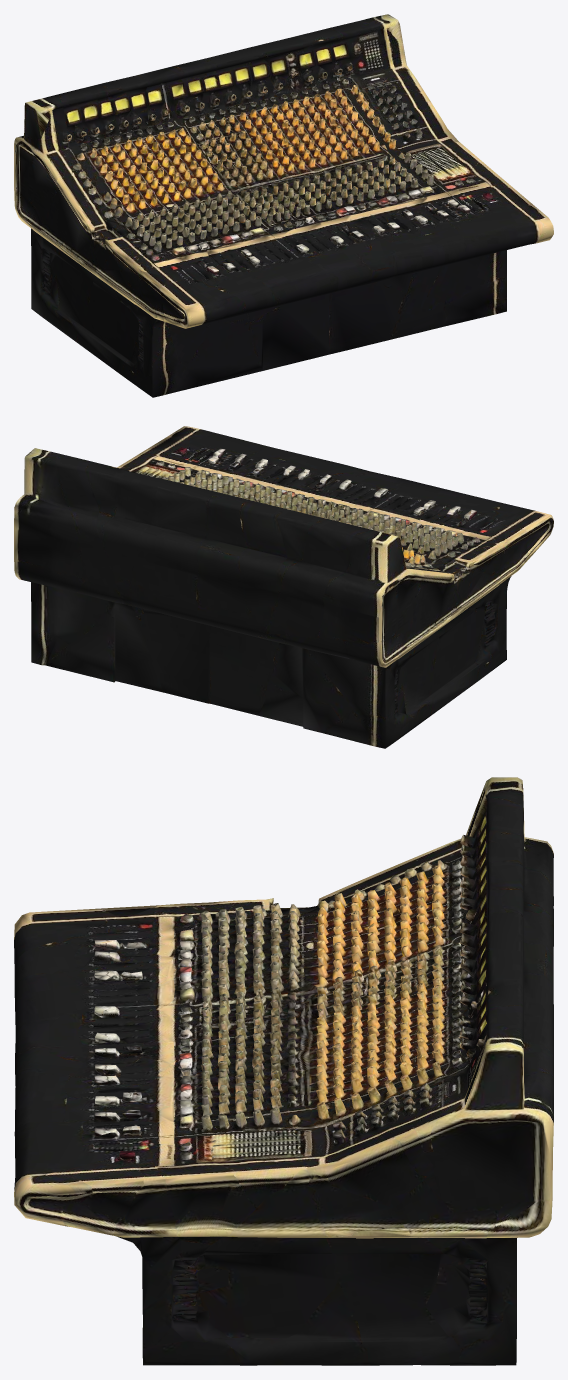
File: console.glb
3 views of the same model, one above another, from view 1: azimuth 30°, elevation 25°; view 2: azimuth 150°, elevation 25°; view 3: azimuth 270°, elevation 25° (orthographic). The views are drawn at different scales.
Bounding box in the file's own units: 1.9 × 1.03 × 1.57.
Materials: 1 (1 with a texture image).
